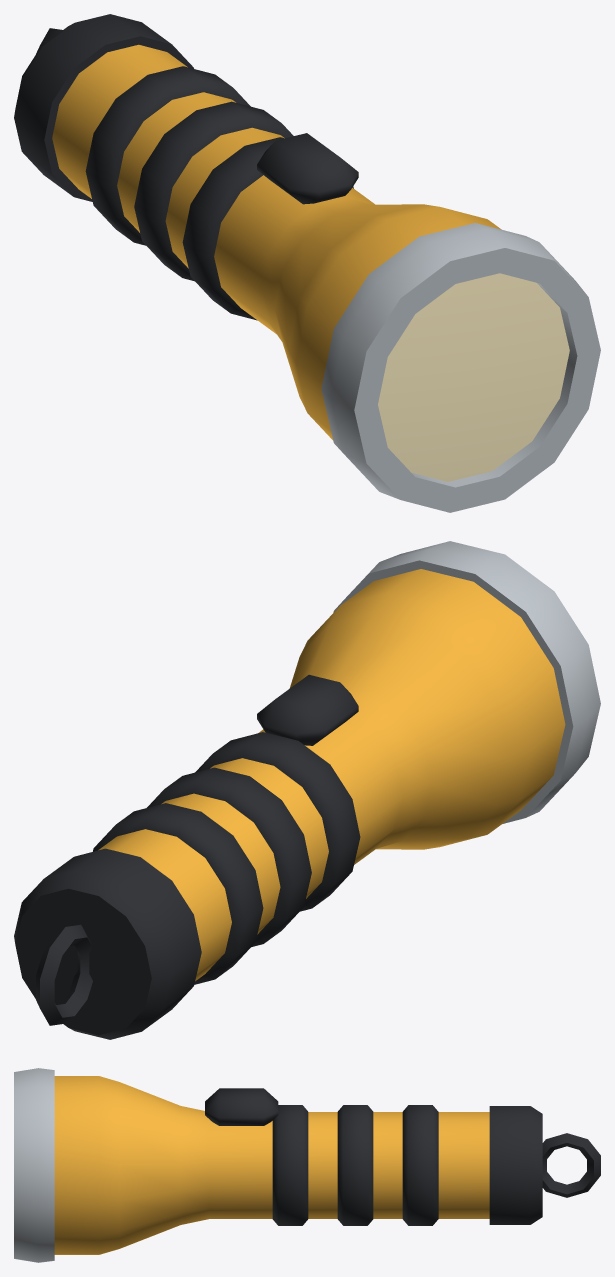
Rendered from Kitchen_Flashlight.fbx.
3 renders of one model, top to bottom at view 1: azimuth 30°, elevation 25°; view 2: azimuth 150°, elevation 25°; view 3: azimuth 270°, elevation 25°, orthographic. The views are drawn at different scales.
Visible parts, largest first — view 1: Body, Rubber, Bezel, Lens; view 2: Body, Rubber, Bezel; view 3: Body, Rubber, Bezel.
Boxes of the visible parts, x1,y1,x2,y2 form: Body: [52, 44, 501, 439]; Rubber: [14, 14, 358, 320]; Bezel: [321, 223, 600, 512]; Lens: [378, 273, 569, 481]; Body: [98, 569, 565, 981]; Rubber: [14, 674, 360, 1039]; Bezel: [333, 541, 600, 823]; Body: [54, 1076, 489, 1254]; Rubber: [205, 1088, 600, 1225]; Bezel: [14, 1068, 54, 1262].
Size of the model in its own units: 49 by 47.77 by 144.
